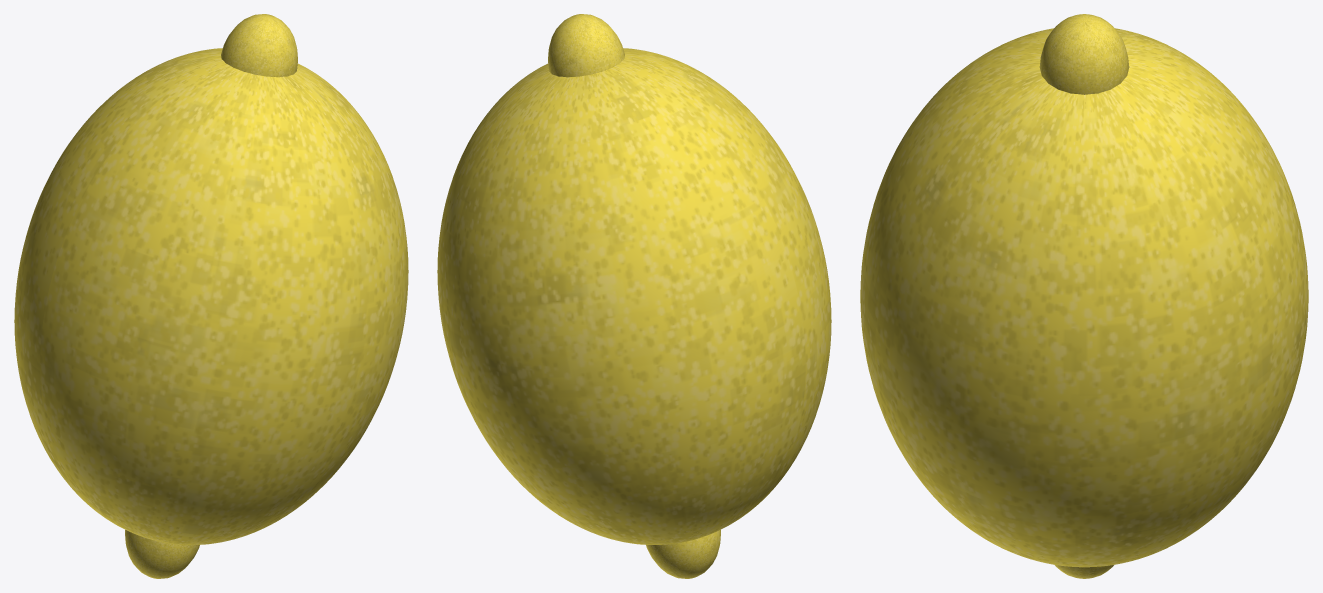
File: lemon.glb
3 renders of one model, left to right at view 1: azimuth 30°, elevation 25°; view 2: azimuth 150°, elevation 25°; view 3: azimuth 270°, elevation 25°, orthographic. The views are drawn at different scales.
Size of the model in its own units: 0.1111 by 0.1656 by 0.1093.
1 material, 1 textured.
